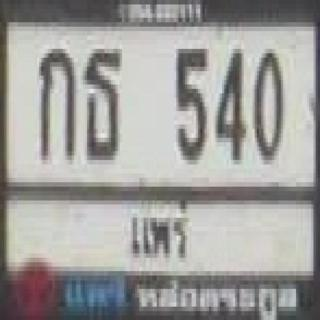A01: (30, 39, 83, 168)
A24: (82, 39, 126, 171)
N00: (249, 39, 292, 167)
N04: (210, 40, 250, 167)
N05: (166, 38, 210, 164)
P47: (125, 200, 196, 261)
